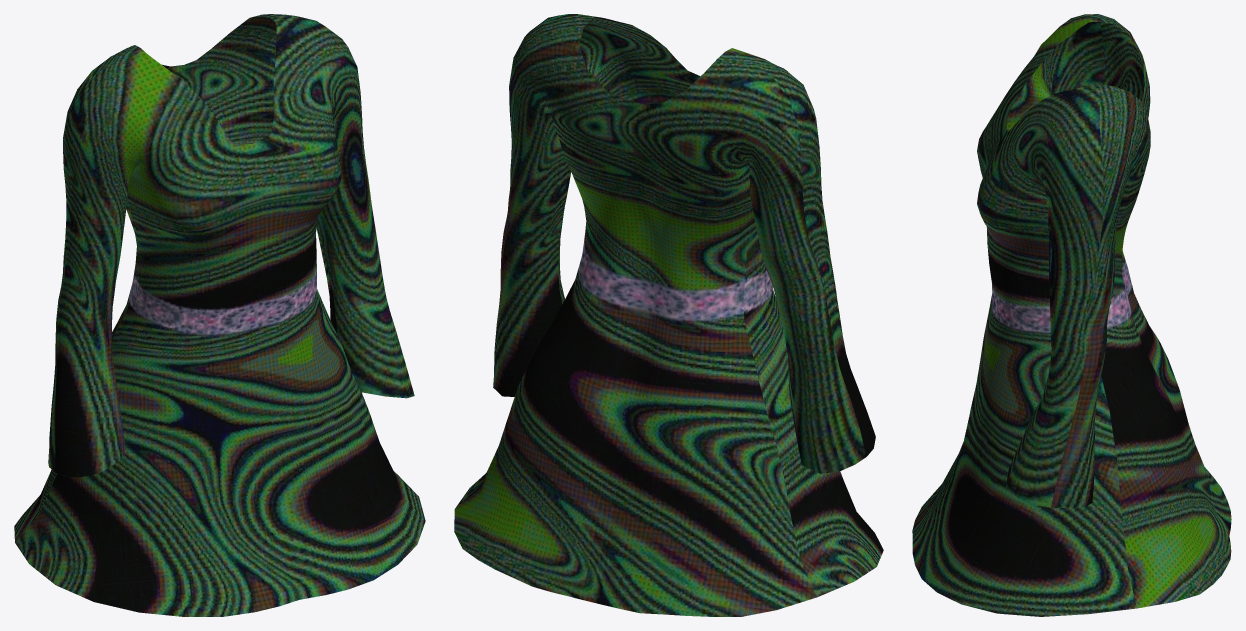
The model's file is elvs-simple-60s-dress.glb.
3 renders of one model, left to right at view 1: azimuth 30°, elevation 25°; view 2: azimuth 150°, elevation 25°; view 3: azimuth 270°, elevation 25°, orthographic. The views are drawn at different scales.
Visible parts, largest first — view 1: Human.elvs_simple_60s_dress; view 2: Human.elvs_simple_60s_dress; view 3: Human.elvs_simple_60s_dress.
Part boxes in pixels (x1=…): Human.elvs_simple_60s_dress: x1=14, y1=14, x2=425, y2=616; Human.elvs_simple_60s_dress: x1=454, y1=14, x2=883, y2=616; Human.elvs_simple_60s_dress: x1=912, y1=14, x2=1231, y2=616.
Bounding box in the file's own units: 0.5659 × 0.7347 × 0.434.
1 material, 1 textured.
